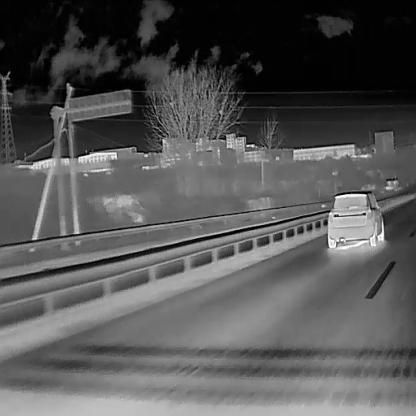car: (326, 189, 384, 247)
